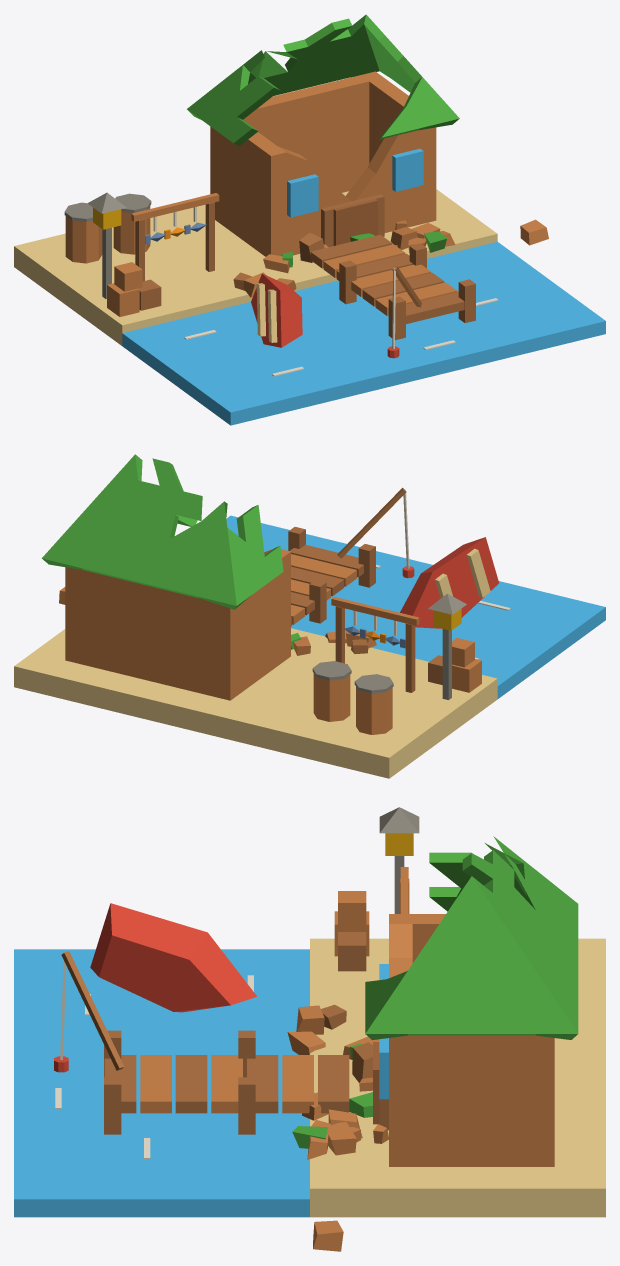
Rendered from fishery_t2_v2_dmg1.glb.
The picture shows the model from 3 angles, top to bottom: view 1: azimuth 30°, elevation 25°; view 2: azimuth 150°, elevation 25°; view 3: azimuth 270°, elevation 25°; orthographic projection. The views are drawn at different scales.
Parts seen in each view (by area): view 1: fishery_t2_v2_dmg1; view 2: fishery_t2_v2_dmg1; view 3: fishery_t2_v2_dmg1.
Boxes of the visible parts, x1,y1,x2,y2 form: fishery_t2_v2_dmg1: [14, 14, 605, 425]; fishery_t2_v2_dmg1: [14, 454, 605, 778]; fishery_t2_v2_dmg1: [14, 807, 605, 1251].
Bounding box in the file's own units: 0.855 × 0.41 × 0.75.
1 material, 1 textured.
